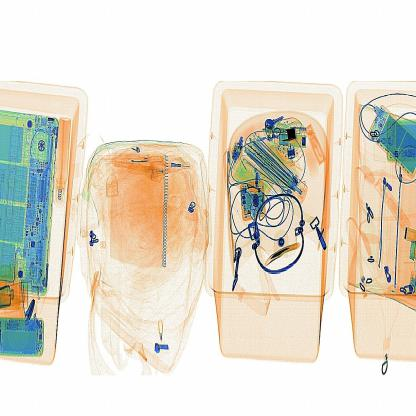wrench: (262, 234, 315, 276)
